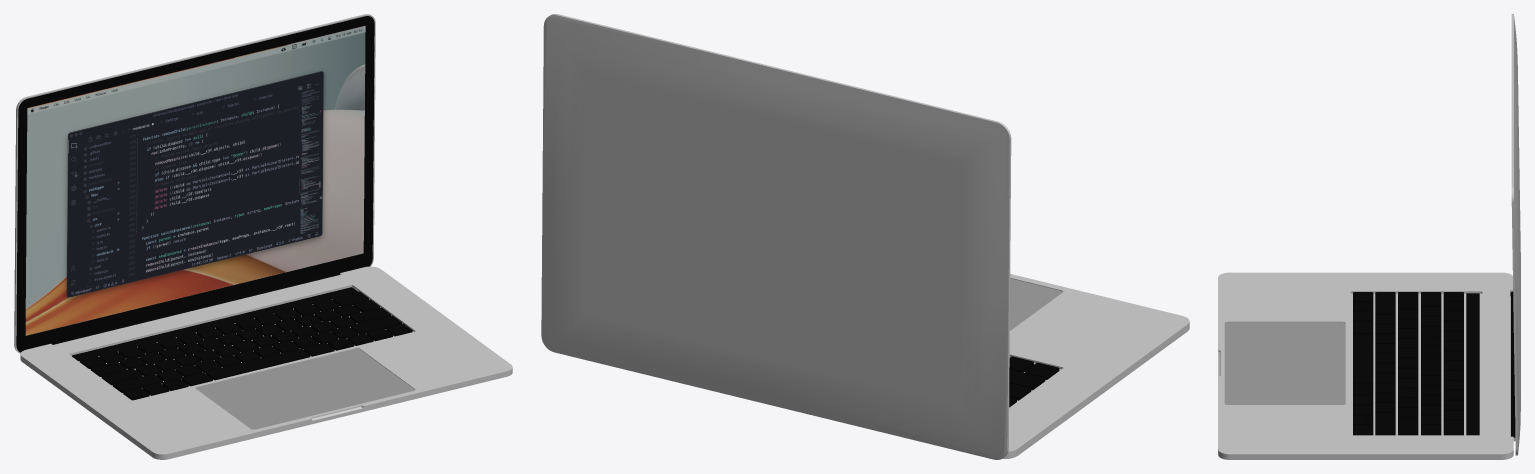
The model's file is talks.gltf.
3 renders of one model, left to right at view 1: azimuth 30°, elevation 25°; view 2: azimuth 150°, elevation 25°; view 3: azimuth 270°, elevation 25°, orthographic. The views are drawn at different scales.
Parts seen in each view (by area): view 1: screen; view 2: screen; view 3: screen.
Boxes of the visible parts, box(x1,y1,x2,y2) form: screen: box(14, 14, 512, 459); screen: box(541, 14, 1189, 459); screen: box(1218, 14, 1520, 459).
Bounding box in the file's own units: 0.8805 × 0.6163 × 0.6199.
